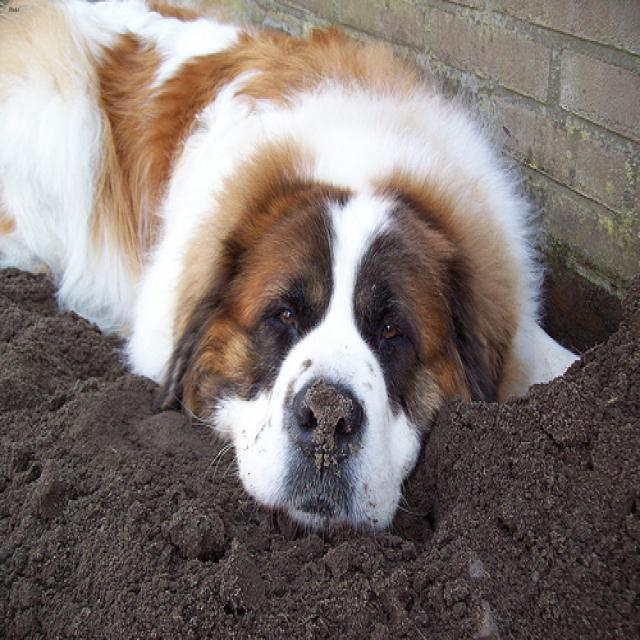dog-saint_bernard: (1, 2, 593, 550)
